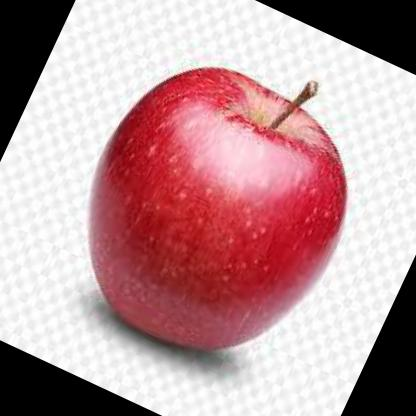apple: (41, 11, 403, 399)
